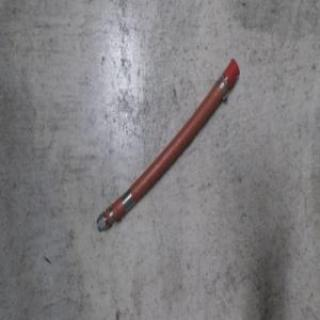Hosetrack_idkeyframe: (94, 55, 242, 235)
